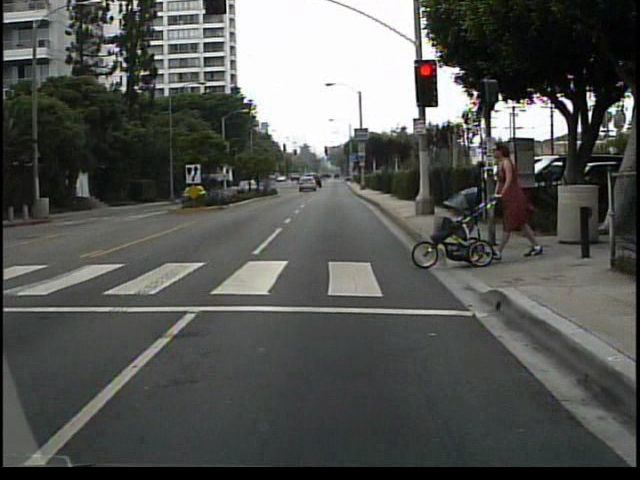person: (485, 141, 546, 266)
